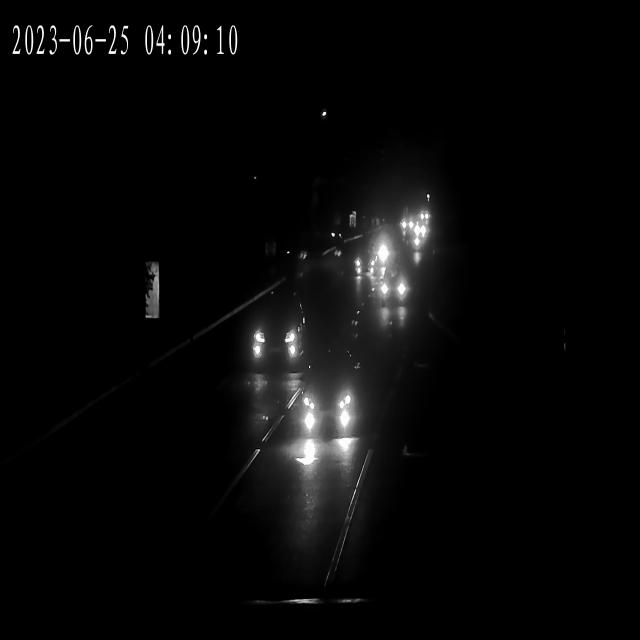Car: (293, 374, 362, 439), (246, 303, 306, 368), (374, 273, 409, 308), (348, 248, 381, 282), (397, 217, 414, 232), (415, 210, 431, 223)
